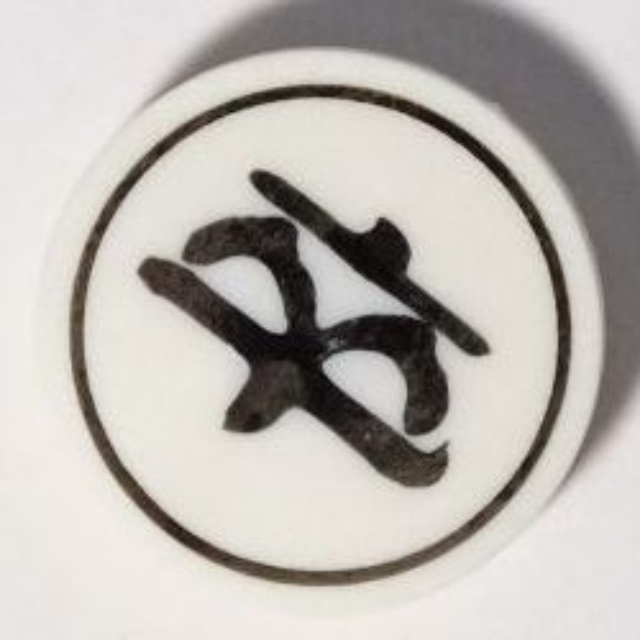black_chot: (29, 42, 618, 597)
